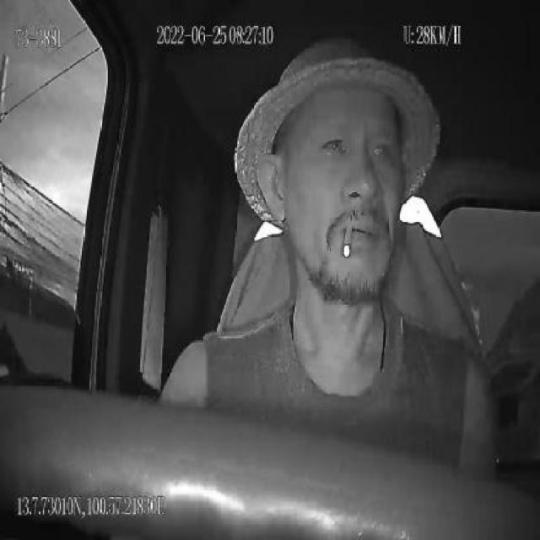smoking: (341, 219, 355, 260)
